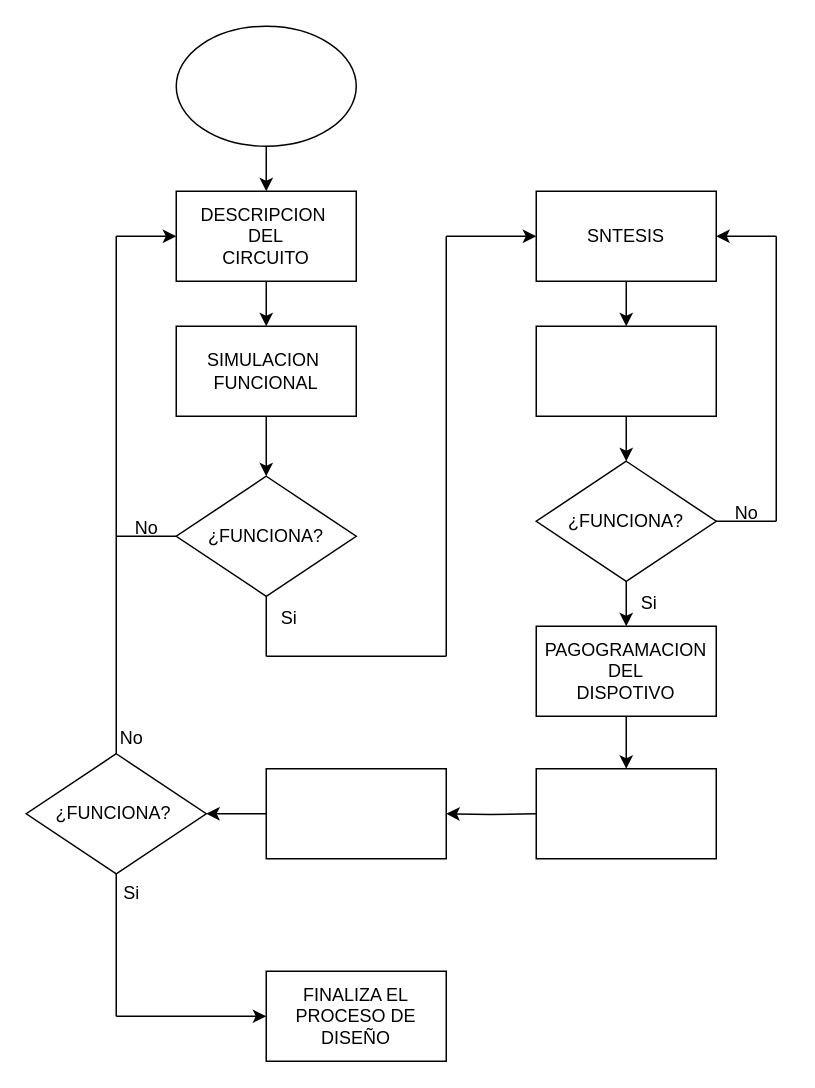
The diagram is 815 pixels wide and 1088 high, and some of its shapes have lost their labels. The centre of each missing label's shape, as x and y in pixels:
ANALISIS TEMPORAL: pixel 625 370
ELBORACION DEL PROTOTIPO: pixel 625 813
IDEA: pixel 265 85
PRUEBAS AL DISEÑO: pixel 355 813
